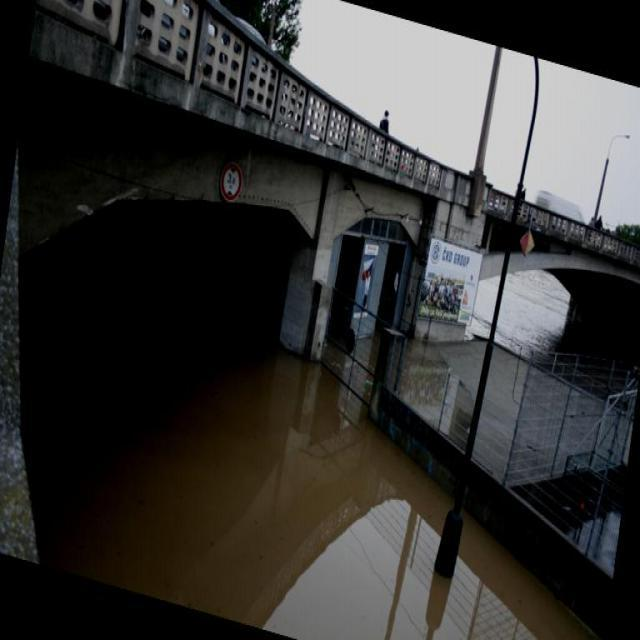flood: (0, 248, 625, 639)
